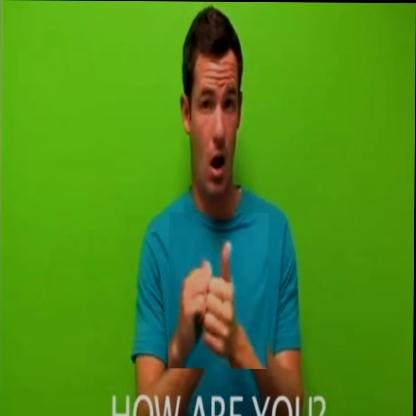HowAreYou: (169, 212, 269, 369)
